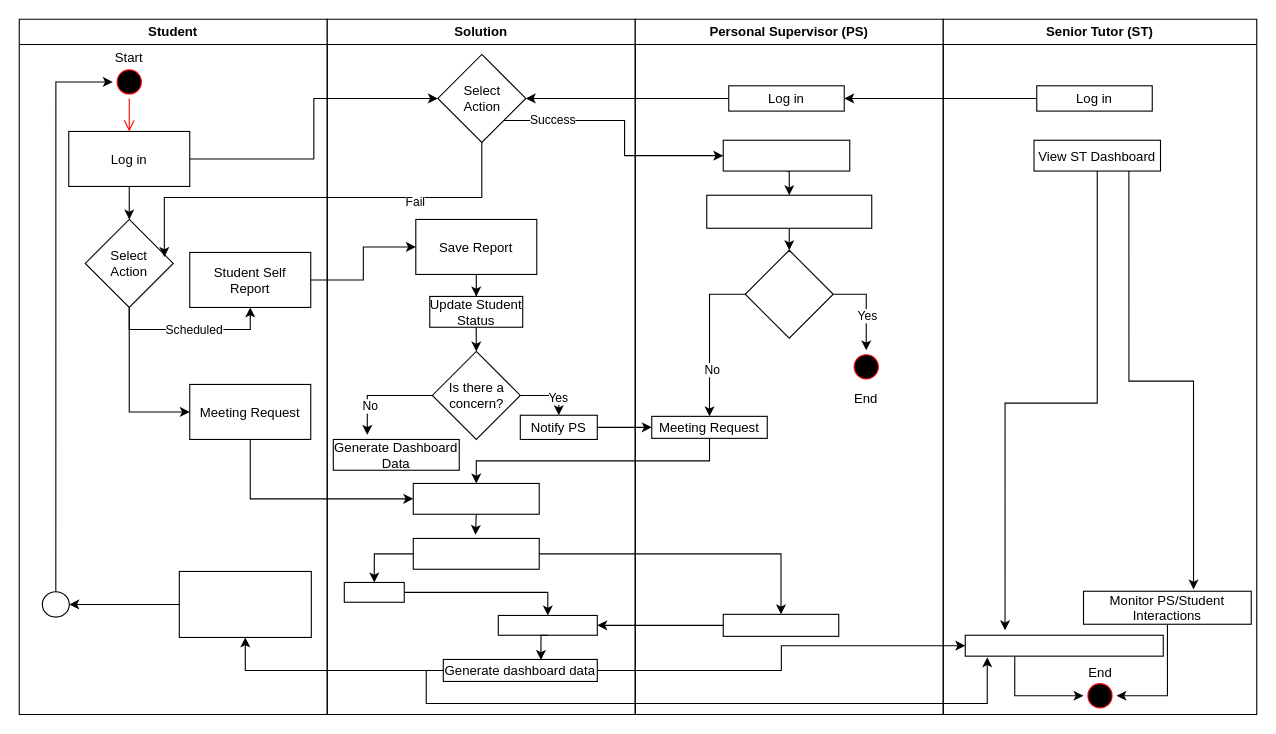
Image size: 1276x734. Some labels were removed from this diagram. The shapes that lost their labels are listed below. From the top down, each one's centre as x and y in pixels, then its label:
At point (786, 155): "View PS Dashboard".
At point (789, 211): "Review assigned students".
At point (788, 293): "Assistance needed?".
At point (475, 498): "Process meeting req".
At point (475, 553): "Schedule meeting".
At point (244, 603): "Meeting Confirmation".
At point (373, 591): "Confirm".
At point (547, 624): "Log Interaction".
At point (780, 624): "Attend Meeting".
At point (1063, 645): "Overview of all students statuses".
